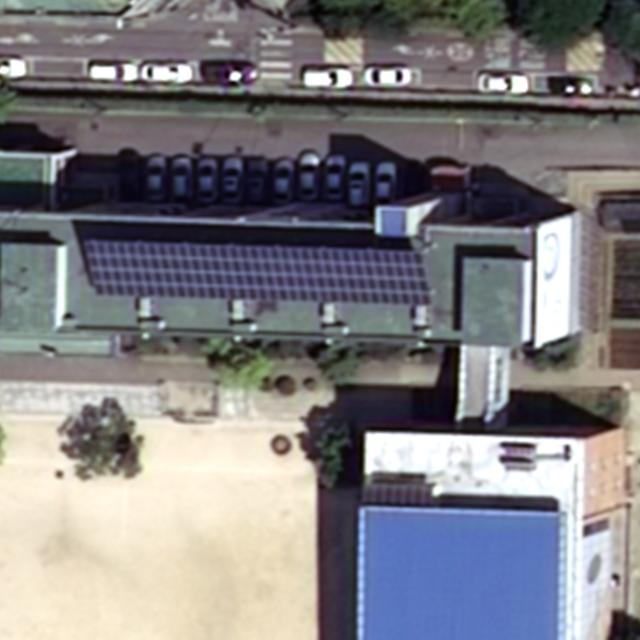panel: (80, 239, 433, 308)
